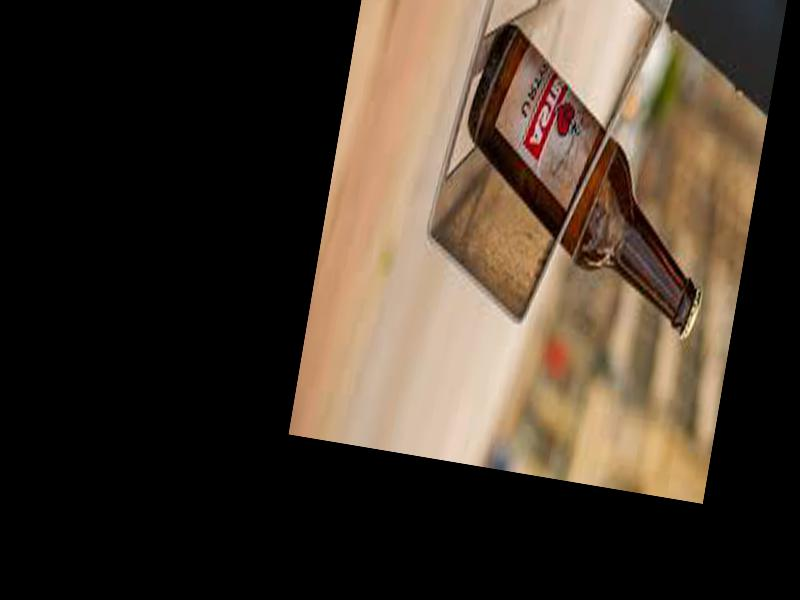Beer: (437, 17, 742, 344)
